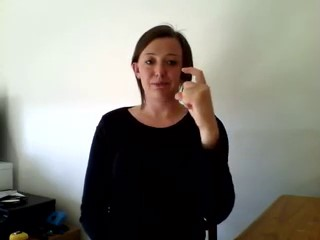C: (175, 63, 216, 123)
